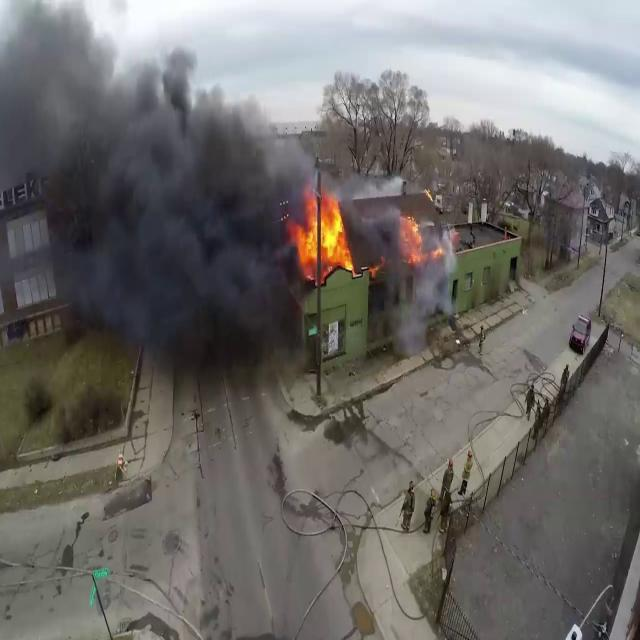Fire: (290, 184, 356, 280), (398, 205, 423, 264)
Smoke: (0, 6, 310, 371), (368, 196, 458, 350)
